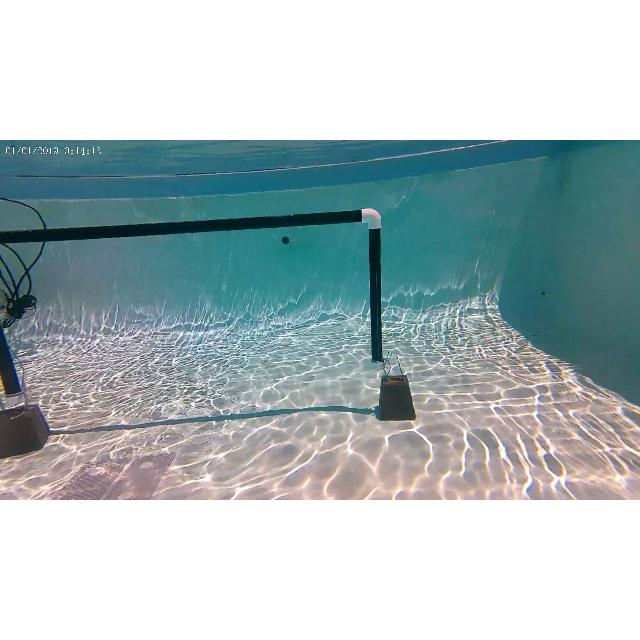prequal gate: (1, 208, 382, 406)
prequal gate leg l: (1, 319, 34, 403)
prequal gate leg r: (358, 208, 394, 380)
